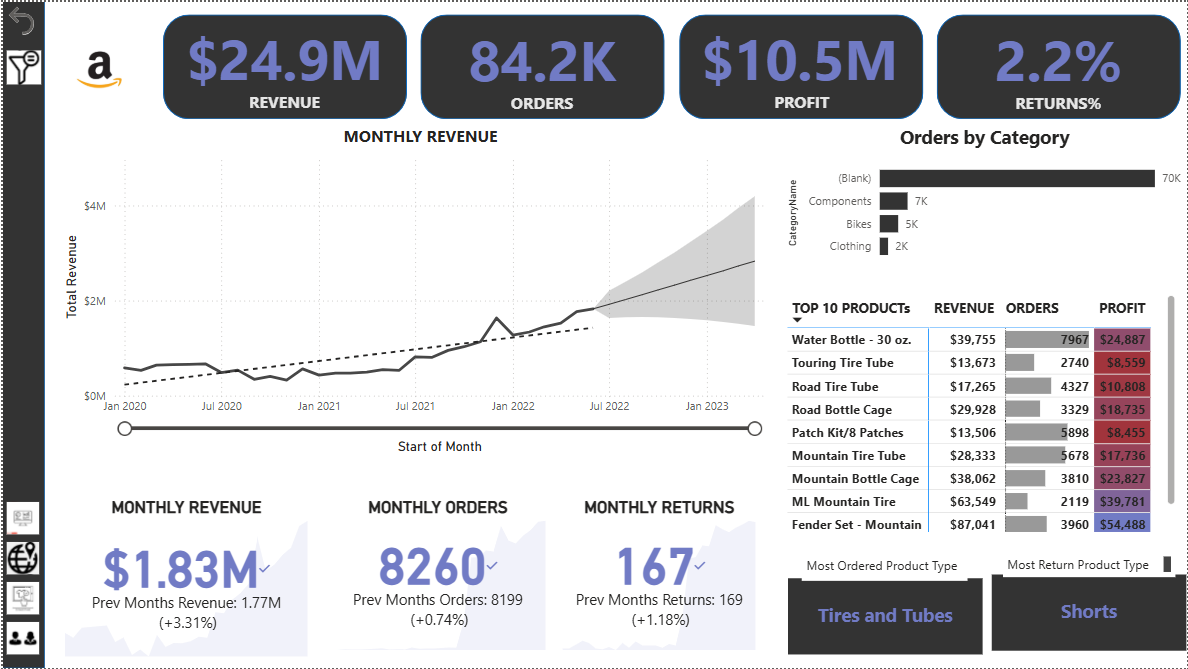

The page's visual inventory and layout, read from the dashboard file:
{"tool":"powerbi","page":{"name":"Excecutive Dashboard","canvas":[1280,720],"ordinal":0},"visuals":[{"type":"shape","box":[173.1,13.5,263.8,113.2],"z":0,"group":"g2"},{"type":"card","fields":{"Values":["Table Measures.Total Revenue"]},"box":[190.4,19.2,228,101.3],"z":0,"group":"g3"},{"type":"image","box":[50,21.2,108.8,103.8],"z":0},{"type":"actionButton","box":[0,536.2,44.8,43.1],"z":0,"group":"g4"},{"type":"shape","title":"Left nav bar","box":[-1.3,-1.3,46.7,722],"z":1000},{"type":"shape","box":[730.7,13.5,263.8,113.2],"z":1000,"group":"g2"},{"type":"card","fields":{"Values":["Table Measures.Total Orders"]},"box":[469.1,20.5,228,101.3],"z":1000,"group":"g3"},{"type":"actionButton","box":[0,579.3,44.8,43.1],"z":1000,"group":"g4"},{"type":"group","id":"g1","title":"KPIs","box":[173.1,13.5,1100,111.5],"z":2000},{"type":"group","id":"g2","title":"KPI Cards","box":[173.1,13.5,1100,113.2],"z":2000,"group":"g1"},{"type":"shape","box":[451.9,13.5,263.8,113.2],"z":2000,"group":"g2"},{"type":"card","fields":{"Values":["Table Measures.Returns Date"]},"box":[1022.4,20.5,236,101.3],"z":2000,"group":"g3"},{"type":"actionButton","box":[0,622.4,44.8,43.1],"z":2000,"group":"g4"},{"type":"shape","box":[1009.3,13.5,263.8,113.2],"z":3000,"group":"g2"},{"type":"group","id":"g3","title":"KPI Values","box":[190.4,19.2,1068,102.7],"z":3000,"group":"g1"},{"type":"card","fields":{"Values":["Table Measures.Total Profit"]},"box":[747.7,19.2,228,101.3],"z":3000,"group":"g3"},{"type":"lineChart","title":"MONTHLY REVENUE","fields":{"Category":["Calendar Lookup.Start of Month"],"Y":["Table Measures.Total Revenue"]},"box":[60.3,132.8,781,360.3],"z":3000},{"type":"actionButton","box":[0,665.5,44.8,43.1],"z":3000,"group":"g4"},{"type":"kpi","title":"MONTHLY RETURNS","fields":{"Goal":["Table Measures.Previous Month Returns"],"Indicator":["Table Measures.Total Returns"],"TrendLine":["Calendar Lookup.Start of Month"]},"box":[600,534.5,219,170.7],"z":4000},{"type":"kpi","title":"MONTHLY ORDERS","fields":{"Goal":["Table Measures.Previous Month Orders"],"Indicator":["Table Measures.Total Orders"],"TrendLine":["Calendar Lookup.Start of Month"]},"box":[348.3,534.5,243.1,170.7],"z":5000},{"type":"kpi","title":"MONTHLY REVENUE","fields":{"Goal":["Table Measures.Previous Month Revenue"],"Indicator":["Table Measures.Total Revenue"],"TrendLine":["Calendar Lookup.Start of Month"]},"box":[62.1,534.5,272.4,177.6],"z":6000},{"type":"clusteredBarChart","title":" Orders by Category","fields":{"Category":["Product Categories Lookup.CategoryName"],"Y":["Table Measures.Total Orders"]},"box":[843.1,132.8,436.2,156.9],"z":7000},{"type":"pivotTable","fields":{"Rows":["Product Lookup.ProductName"],"Values":["Table Measures.Total Revenue","Table Measures.Total Orders","Table Measures.Total Profit"]},"box":[843.1,312.1,429.3,265.5],"z":8000},{"type":"card","fields":{"Values":["Min(Product Subcategories Lookup.SubcategoryName)"]},"box":[848.3,622.4,210.3,82.8],"z":9000},{"type":"textbox","box":[863.8,594.8,179.3,31],"z":10000},{"type":"card","fields":{"Values":["Min(Product Subcategories Lookup.SubcategoryName)"]},"box":[1069,619,210.3,82.8],"z":11000},{"type":"textbox","box":[1081,594.8,186.2,27.6],"z":12000},{"type":"actionButton","box":[0,0,59.6,40.4],"z":13000},{"type":"group","id":"g4","title":"Nav Buttons","box":[0,536.2,44.8,172.4],"z":14000},{"type":"actionButton","box":[0,45.3,45.3,49.3],"z":15000},{"type":"actionButton","box":[0,0,45,40],"z":19000}]}

Visuals, with their boxes on the page's 1280x720 design canvas (x1, y1, x2, y2). These are canvas units, not pixel positions in the 1188x669 screenshot, which may show the page scaled, cropped or inside an application window:
shape: 173,14,437,127
card - Table Measures.Total Revenue: 190,19,418,120
image: 50,21,159,125
actionButton: 0,536,45,579
"Left nav bar" shape: -1,-1,45,721
shape: 731,14,994,127
card - Table Measures.Total Orders: 469,20,697,122
actionButton: 0,579,45,622
"KPIs" group: 173,14,1273,125
"KPI Cards" group: 173,14,1273,127
shape: 452,14,716,127
card - Table Measures.Returns Date: 1022,20,1258,122
actionButton: 0,622,45,666
shape: 1009,14,1273,127
"KPI Values" group: 190,19,1258,122
card - Table Measures.Total Profit: 748,19,976,120
"MONTHLY REVENUE" lineChart: 60,133,841,493
actionButton: 0,666,45,709
"MONTHLY RETURNS" kpi: 600,534,819,705
"MONTHLY ORDERS" kpi: 348,534,591,705
"MONTHLY REVENUE" kpi: 62,534,334,712
" Orders by Category" clusteredBarChart: 843,133,1279,290
pivotTable - Product Lookup.ProductName x Table Measures.Total Revenue: 843,312,1272,578
card - Min(Product Subcategories Lookup.SubcategoryName): 848,622,1059,705
textbox: 864,595,1043,626
card - Min(Product Subcategories Lookup.SubcategoryName): 1069,619,1279,702
textbox: 1081,595,1267,622
actionButton: 0,0,60,40
"Nav Buttons" group: 0,536,45,709
actionButton: 0,45,45,95
actionButton: 0,0,45,40
